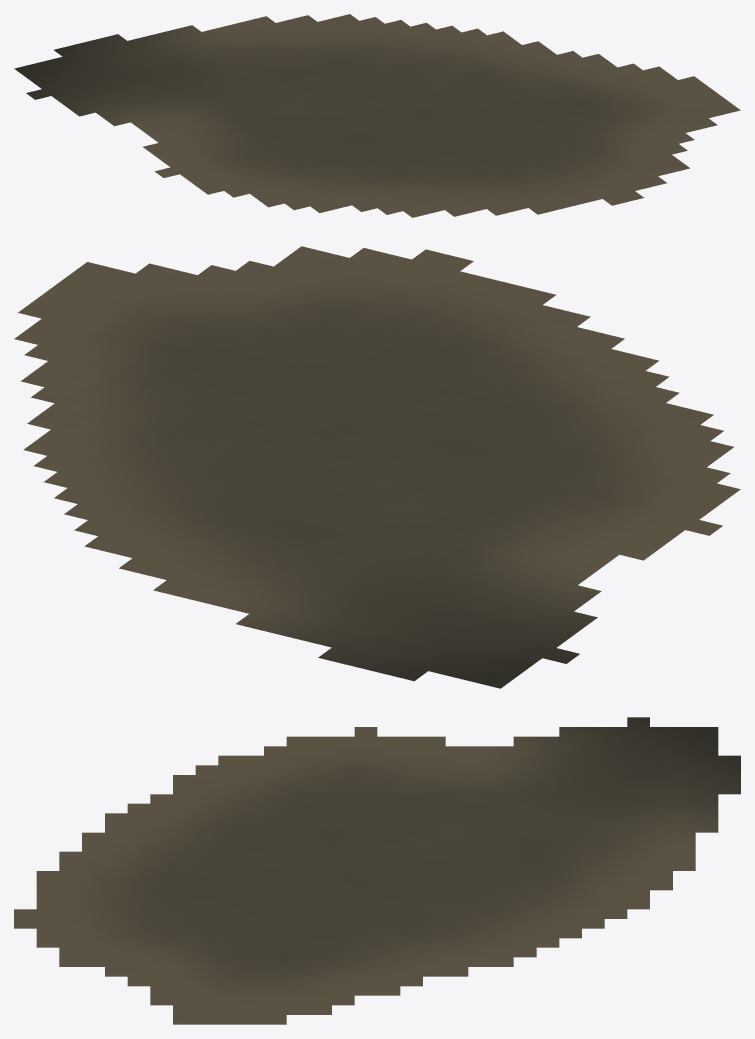
The model's file is ISL2_MudPuddle_3.fbx.
3 renders of one model, top to bottom at view 1: azimuth 30°, elevation 25°; view 2: azimuth 150°, elevation 25°; view 3: azimuth 270°, elevation 25°, orthographic. The views are drawn at different scales.
Visible parts, largest first — view 1: ISL2_MudPuddle_3.001; view 2: ISL2_MudPuddle_3.001; view 3: ISL2_MudPuddle_3.001.
Part boxes in pixels (bbox=[...]): ISL2_MudPuddle_3.001: bbox=[14, 14, 740, 217]; ISL2_MudPuddle_3.001: bbox=[14, 246, 740, 688]; ISL2_MudPuddle_3.001: bbox=[14, 717, 740, 1024].
Size of the model in its own units: 11.2 by 0 by 11.2.
